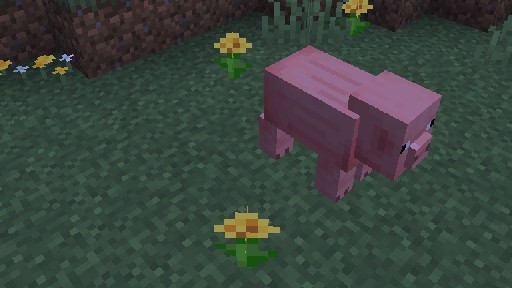pig: (258, 44, 442, 203)
